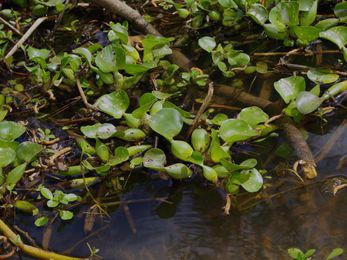water_hyacinth: (1, 1, 346, 224)
